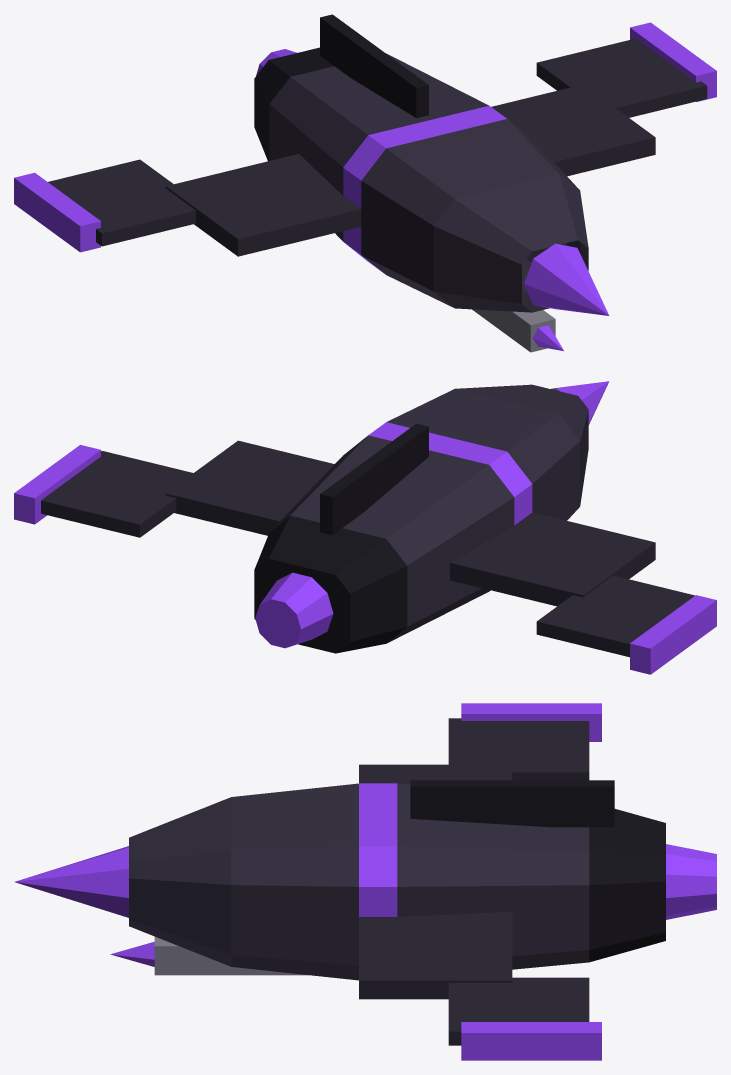
Rendered from drone_wasp.fbx.
3 renders of one model, top to bottom at view 1: azimuth 30°, elevation 25°; view 2: azimuth 150°, elevation 25°; view 3: azimuth 270°, elevation 25°, orthographic. The views are drawn at different scales.
Parts seen in each view (by area): view 1: drone_wasp; view 2: drone_wasp; view 3: drone_wasp.
Boxes of the visible parts, bbox=[...] form: drone_wasp: bbox=[14, 14, 716, 352]; drone_wasp: bbox=[14, 381, 716, 674]; drone_wasp: bbox=[15, 703, 716, 1060].
Bounding box in the file's own units: 0.61 × 0.16 × 0.55.
